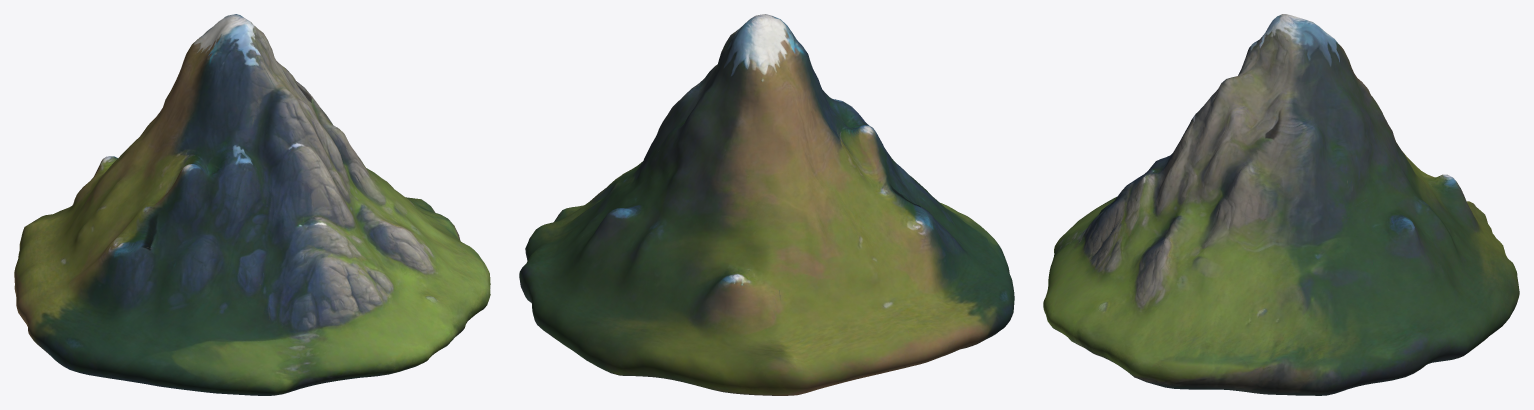
Rendered from A_single_cartoony_Mou_0306081647.fbx.
The picture shows the model from 3 angles, left to right: view 1: azimuth 30°, elevation 25°; view 2: azimuth 150°, elevation 25°; view 3: azimuth 270°, elevation 25°; orthographic projection. The views are drawn at different scales.
Visible parts, largest first — view 1: Mesh_0; view 2: Mesh_0; view 3: Mesh_0.
Boxes of the visible parts, x1=… form: Mesh_0: x1=14, y1=14, x2=490, y2=395; Mesh_0: x1=519, y1=14, x2=1014, y2=395; Mesh_0: x1=1043, y1=14, x2=1519, y2=395.
Bounding box in the file's own units: 200 × 130 × 193.
Materials: 1 (1 with a texture image).
